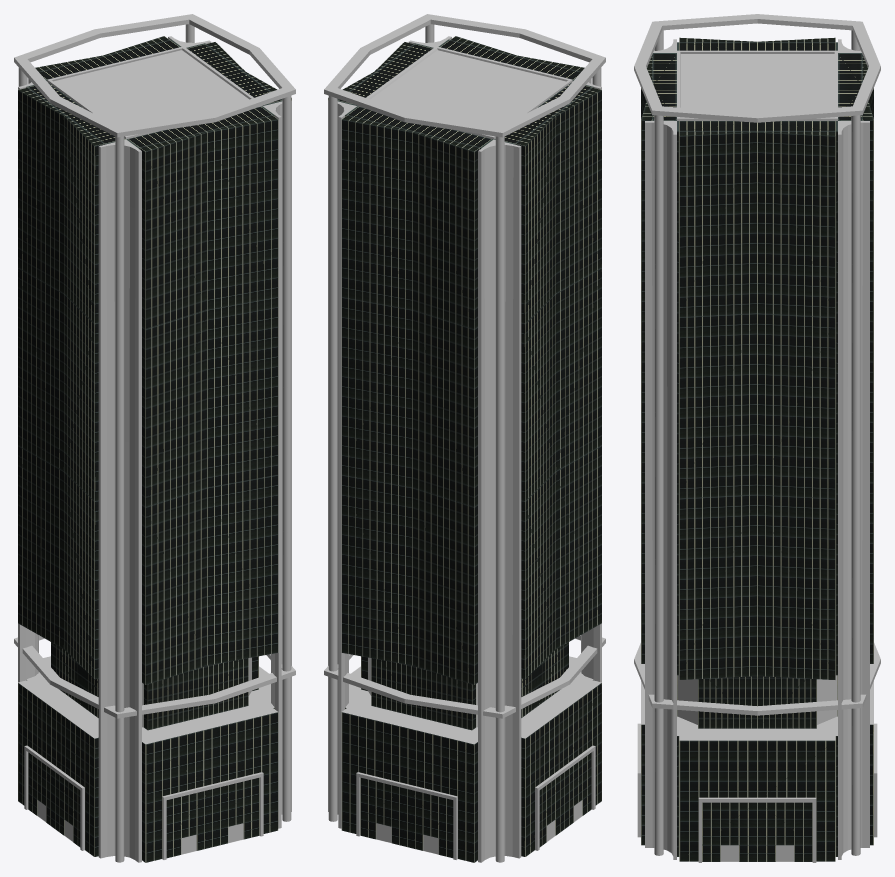
3 renders of one model, left to right at view 1: azimuth 30°, elevation 25°; view 2: azimuth 150°, elevation 25°; view 3: azimuth 270°, elevation 25°, orthographic. The views are drawn at different scales.
Parts seen in each view (by area): view 1: EC-040; view 2: EC-040; view 3: EC-040.
Part boxes in pixels (x1=…): EC-040: x1=14, y1=14, x2=295, y2=862; EC-040: x1=324, y1=14, x2=605, y2=862; EC-040: x1=634, y1=14, x2=880, y2=862.
Size of what is drawn, in the model's own units: 33.28 by 111 by 33.28.
